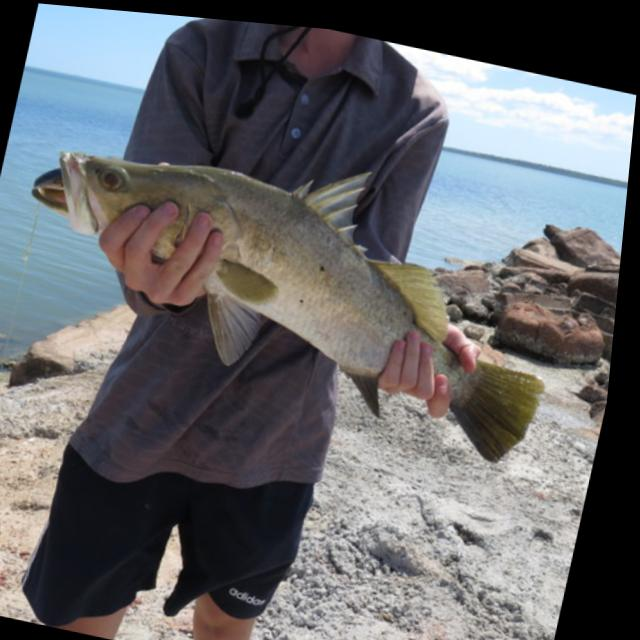Seabass: (0, 101, 587, 472)
